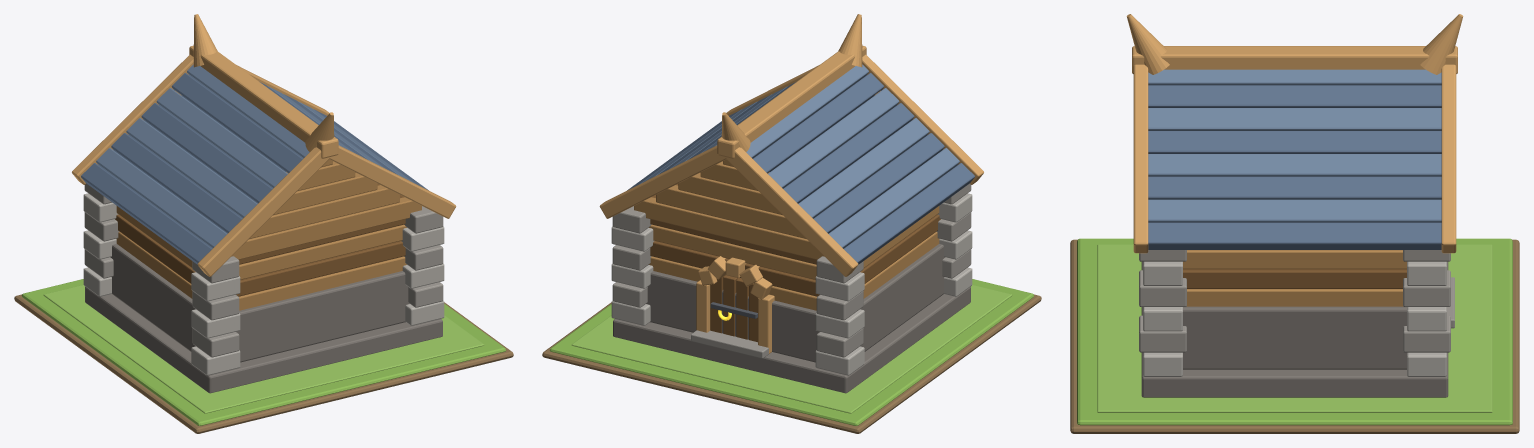
Rendered from builder_hall_lv2.glb.
3 views of the same model, side by side, from view 1: azimuth 30°, elevation 25°; view 2: azimuth 150°, elevation 25°; view 3: azimuth 270°, elevation 25° (orthographic). The views are drawn at different scales.
Parts seen in each view (by area): view 1: BH_SlateWainscot, Base_Inner, BH_Foundation, Base_Grass, Base_Dirt, WallPlank_4, WallPlank_3, RidgeBeam, Gable_-1_0, WallPlank_5, RoofSlope_-1_7, Bargeboard_-1_-1 (+33 smaller); view 2: Base_Inner, BH_SlateWainscot, BH_Foundation, Base_Grass, Base_Dirt, RidgeBeam, Gable_1_0, RoofSlope_-1_7, WallPlank_4, WallPlank_5, Bargeboard_1_-1, RoofSlope_-1_3 (+39 smaller); view 3: Base_Inner, BH_SlateWainscot, Base_Grass, BH_Foundation, RoofSlope_1_7, RoofSlope_1_5, RoofSlope_1_6, RoofSlope_1_1, RoofSlope_1_2, RoofSlope_1_3, RoofSlope_1_4, Base_Dirt (+21 smaller).
Part boxes in pixels (box(x1,y1,x2,y2)): BH_SlateWainscot: box(110, 244, 409, 362); Base_Inner: box(43, 285, 484, 413); BH_Foundation: box(85, 286, 442, 393); Base_Grass: box(21, 279, 506, 425); Base_Dirt: box(14, 294, 513, 433); WallPlank_4: box(115, 214, 405, 296); WallPlank_3: box(116, 231, 406, 310); RidgeBeam: box(189, 45, 338, 158); Gable_-1_0: box(231, 197, 421, 259); WallPlank_5: box(116, 206, 406, 279); RoofSlope_-1_7: box(81, 163, 212, 264); Bargeboard_-1_-1: box(197, 147, 329, 276); Base_Inner: box(571, 285, 1012, 413); BH_SlateWainscot: box(646, 244, 945, 362); BH_Foundation: box(613, 286, 970, 393); Base_Grass: box(549, 279, 1034, 425); Base_Dirt: box(542, 294, 1041, 433); RidgeBeam: box(717, 45, 866, 158); Gable_1_0: box(634, 197, 824, 259); RoofSlope_-1_7: box(843, 163, 974, 264); WallPlank_4: box(650, 214, 940, 296); WallPlank_5: box(649, 206, 939, 279); Bargeboard_1_-1: box(726, 147, 858, 276); RoofSlope_-1_3: box(783, 103, 914, 203); Base_Inner: box(1097, 244, 1492, 412); BH_SlateWainscot: box(1183, 306, 1406, 369); Base_Grass: box(1077, 238, 1512, 425); BH_Foundation: box(1141, 261, 1448, 397); RoofSlope_1_7: box(1148, 222, 1441, 249); RoofSlope_1_5: box(1148, 176, 1441, 199); RoofSlope_1_6: box(1148, 199, 1441, 222); RoofSlope_1_1: box(1148, 85, 1441, 107); RoofSlope_1_2: box(1148, 108, 1441, 130); RoofSlope_1_3: box(1148, 131, 1441, 153); RoofSlope_1_4: box(1148, 154, 1441, 176); Base_Dirt: box(1070, 239, 1519, 433).
Bounding box in the file's own units: 3.68 × 2.94 × 3.68.
